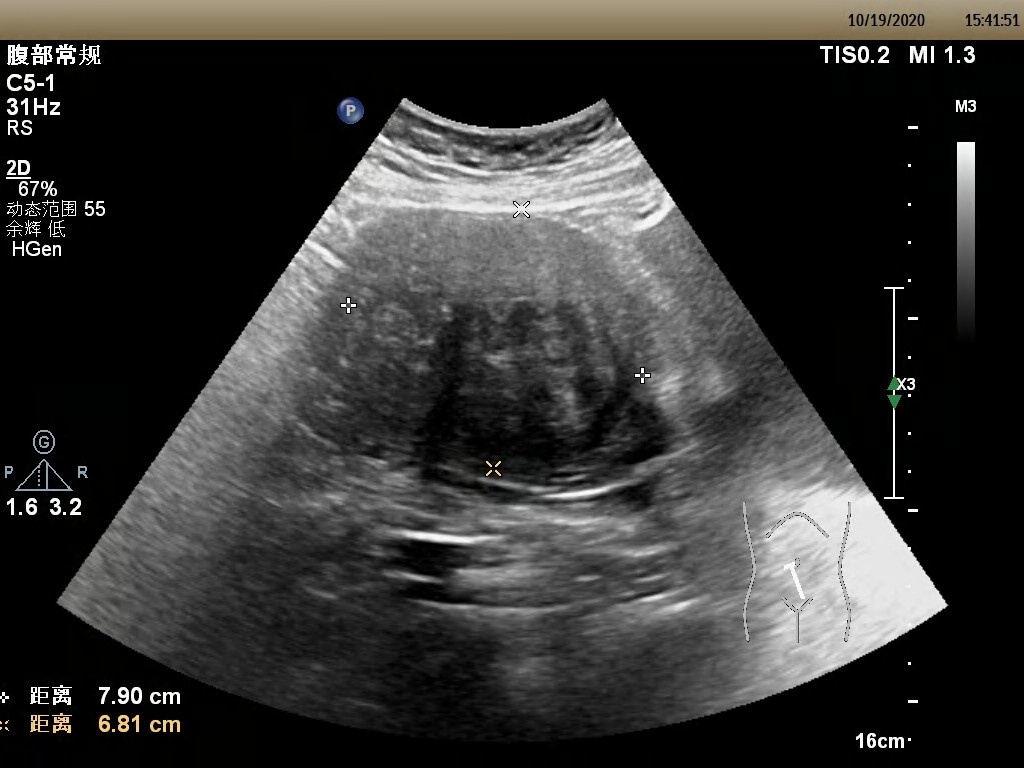肌瘤: (341, 213, 648, 482)
